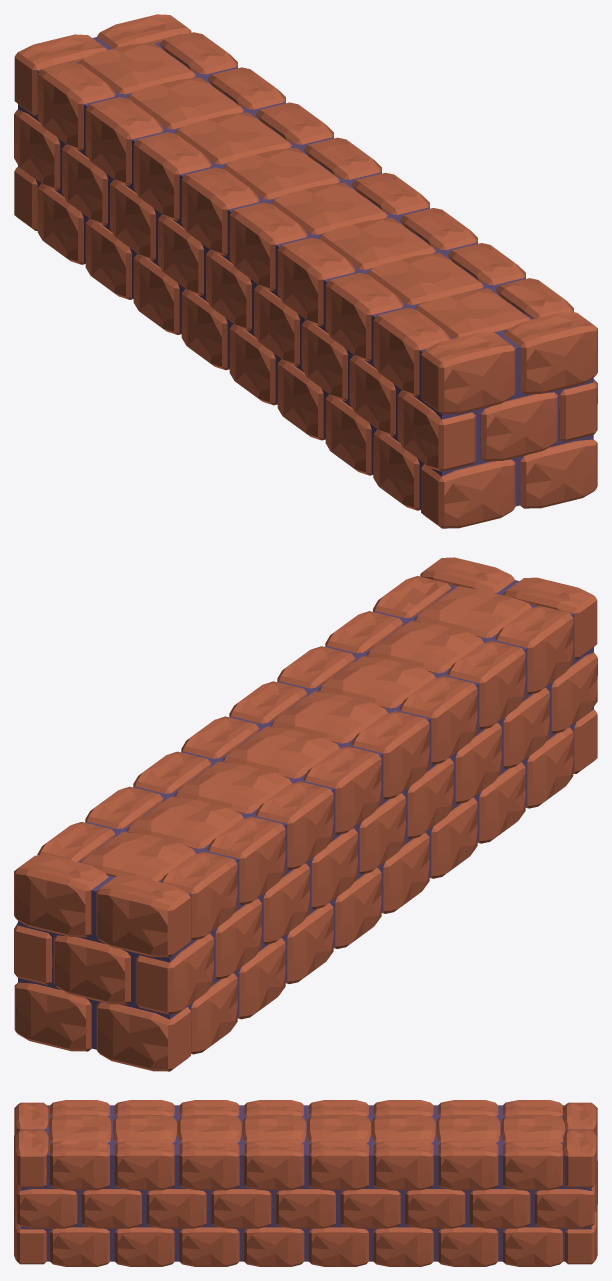
File: bricks_long_V02.fbx
3 renders of one model, top to bottom at view 1: azimuth 30°, elevation 25°; view 2: azimuth 150°, elevation 25°; view 3: azimuth 270°, elevation 25°, orthographic. The views are drawn at different scales.
Parts seen in each view (by area): view 1: Bricks, backgroundBox; view 2: Bricks, backgroundBox; view 3: Bricks, backgroundBox.
Boxes of the visible parts, x1,y1,x2,y2 form: Bricks: [14, 14, 597, 528]; backgroundBox: [18, 37, 593, 508]; Bricks: [14, 557, 597, 1071]; backgroundBox: [18, 576, 593, 1051]; Bricks: [14, 1100, 597, 1266]; backgroundBox: [20, 1105, 591, 1261].
Bounding box in the file's own units: 116 × 116 × 519.
